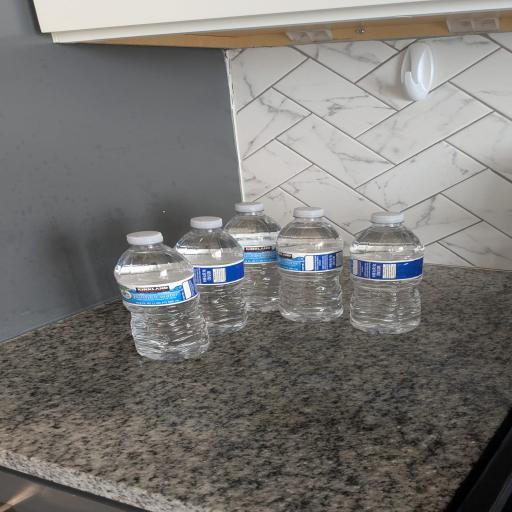waterbottle: (115, 232, 209, 360), (350, 212, 423, 333), (175, 217, 247, 334), (277, 207, 343, 322), (225, 202, 280, 312)
